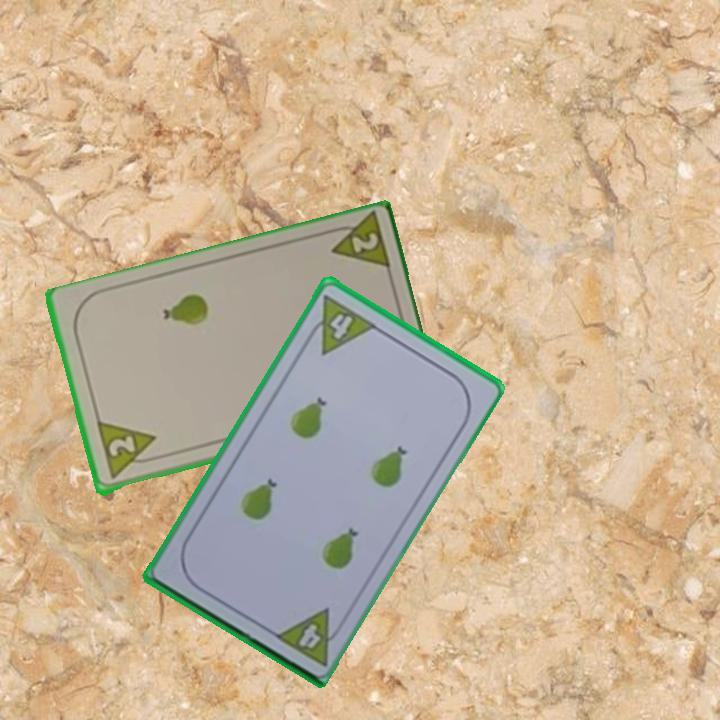2p: (321, 211, 394, 276), (104, 432, 138, 461)
4p: (300, 291, 379, 358), (269, 604, 348, 668)
